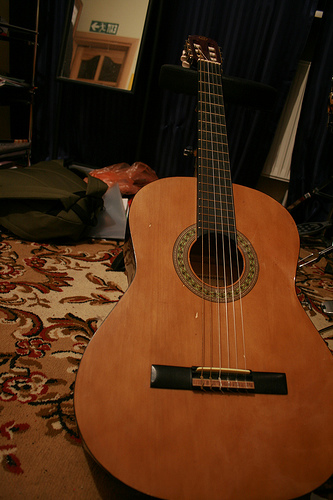guitar: (72, 33, 332, 500)
